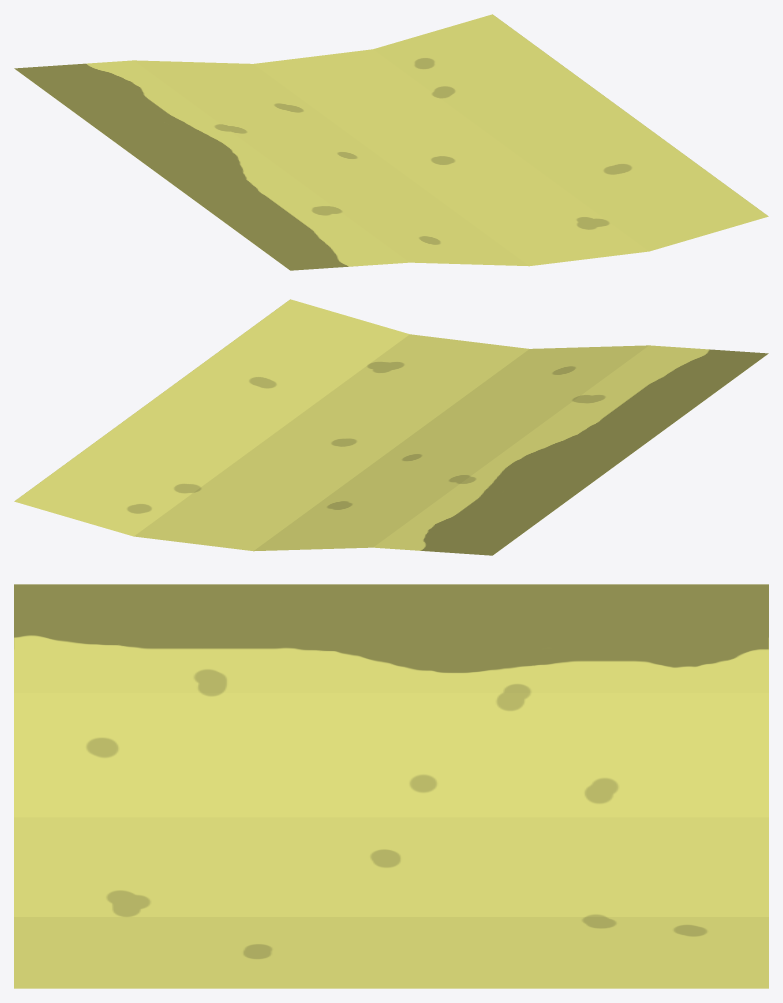
File: AreiaEsquerda.glb
3 renders of one model, top to bottom at view 1: azimuth 30°, elevation 25°; view 2: azimuth 150°, elevation 25°; view 3: azimuth 270°, elevation 25°, orthographic. The views are drawn at different scales.
Visible parts, largest first — view 1: Plano; view 2: Plano; view 3: Plano.
Boxes of the visible parts, box(x1,y1,x2,y2) form: Plano: box(14, 14, 768, 270); Plano: box(14, 299, 768, 555); Plano: box(14, 584, 768, 988).
Bounding box in the file's own units: 2 × 0.2732 × 2.
1 material, 1 textured.
